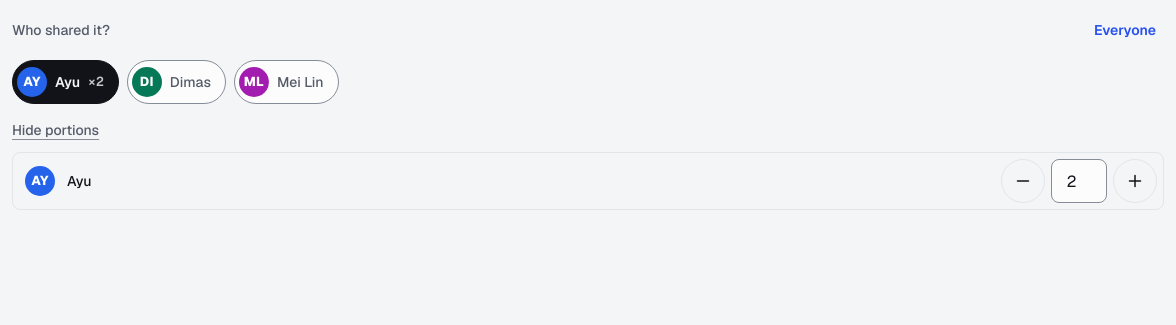
Scenario: EqualModeAssign people chips › 'Everyone' adds the missing people with one portion and keeps existing portions
Click the button "Everyone": [1125, 30] box left=1086, top=12, right=1164, bottom=48
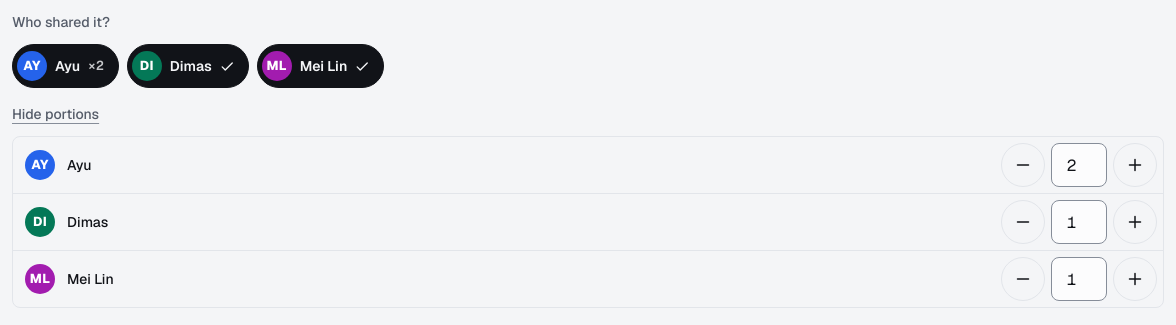
Result: the button "Everyone" is gone
